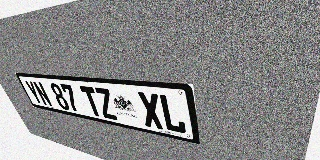7: (59, 84, 82, 113)
8: (48, 83, 71, 111)
L: (158, 94, 187, 135)
N: (32, 81, 53, 107)
T: (79, 86, 104, 117)
X: (137, 91, 165, 130)
Y: (24, 80, 44, 105)
Z: (93, 87, 119, 120)
